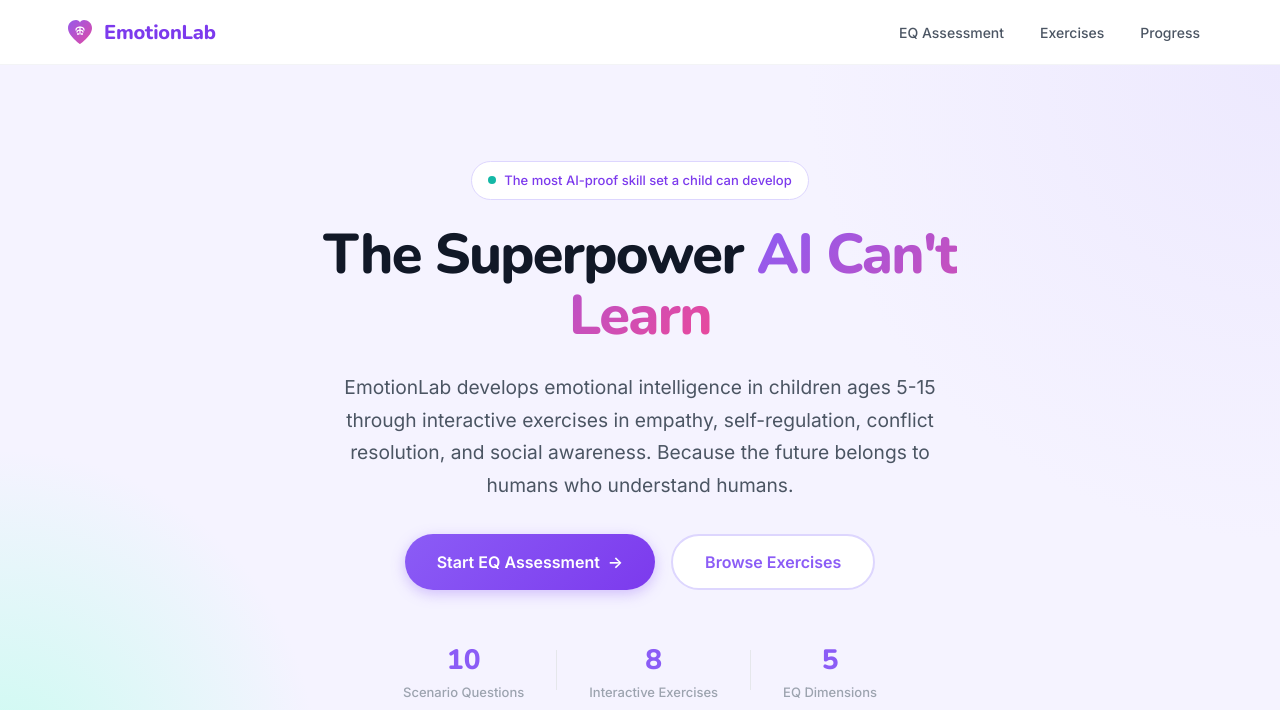
it: App › navigates to assessment page when clicking nav link
Step 1. Click the button "EQ Assessment" → (952, 32), box [883, 16, 1020, 48]
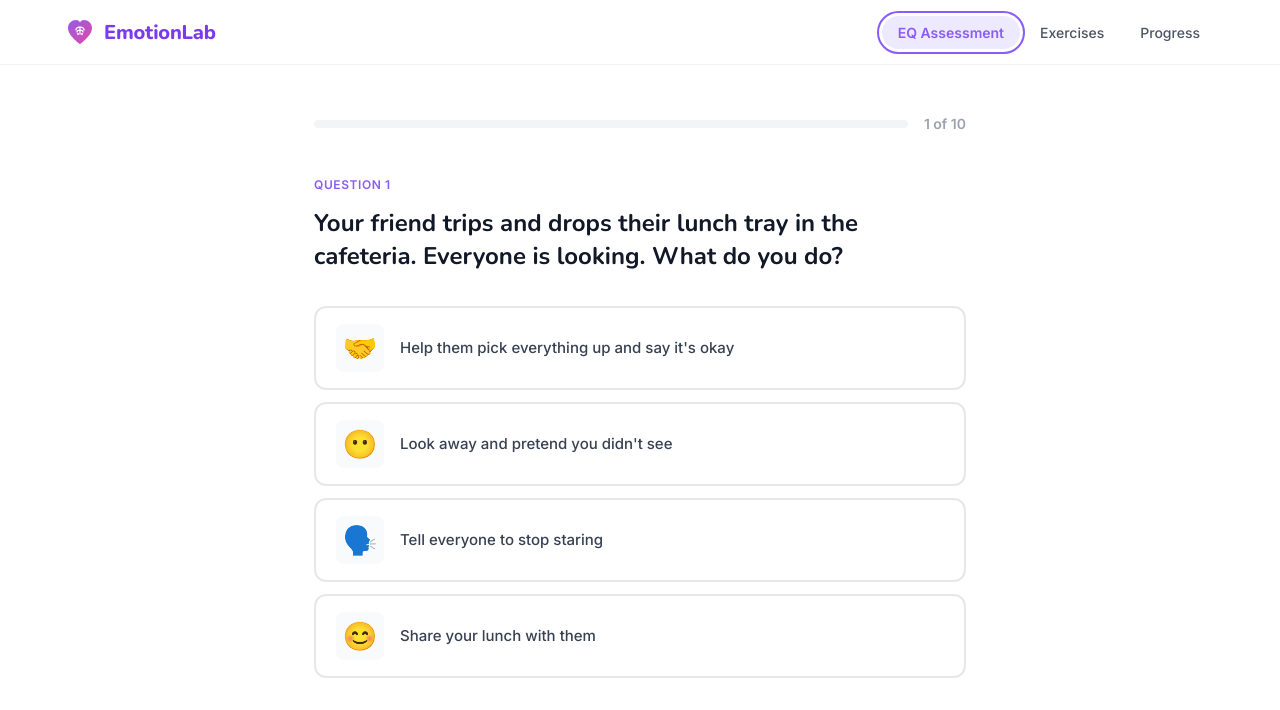
Check: the text "Question 1" is shown, box [314, 177, 391, 192]
